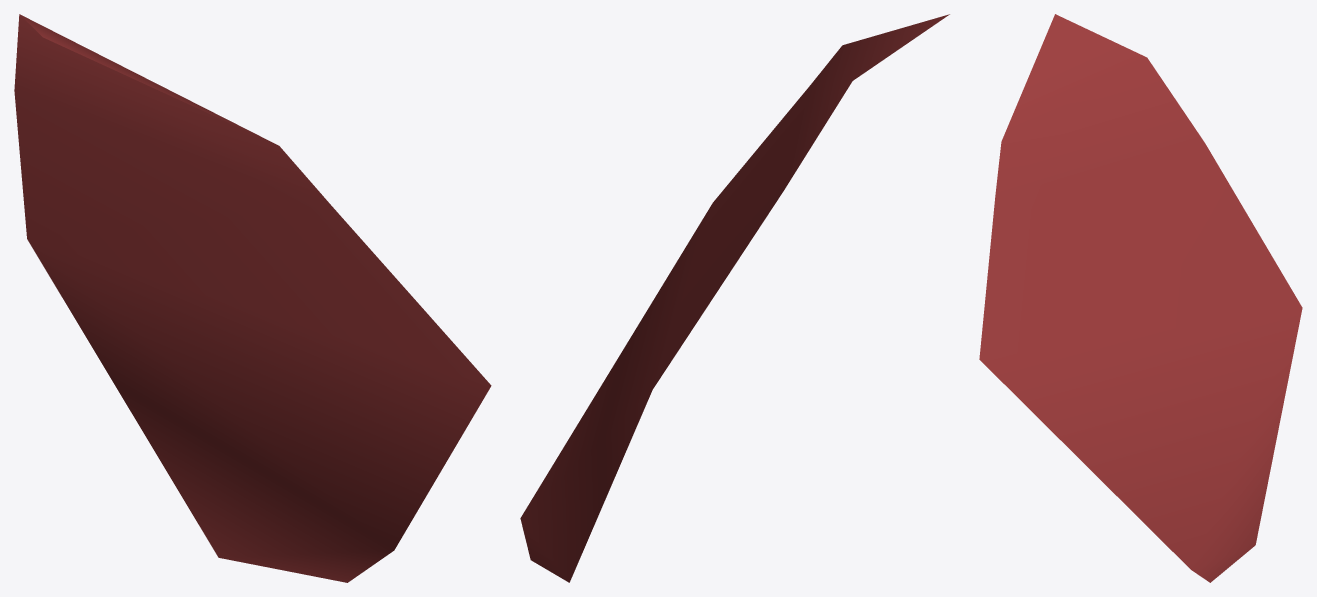
Rendered from levator-scapulae-o1l.glb.
The picture shows the model from 3 angles, left to right: view 1: azimuth 30°, elevation 25°; view 2: azimuth 150°, elevation 25°; view 3: azimuth 270°, elevation 25°; orthographic projection. The views are drawn at different scales.
Parts seen in each view (by area): view 1: Levator scapulae.o1l; view 2: Levator scapulae.o1l; view 3: Levator scapulae.o1l.
Part boxes in pixels (x1,y1,x2,y2): Levator scapulae.o1l: (14, 14, 491, 582); Levator scapulae.o1l: (520, 14, 949, 582); Levator scapulae.o1l: (979, 14, 1302, 582).
Size of the model in its own units: 0.00173 by 0.00266 by 0.00176.
